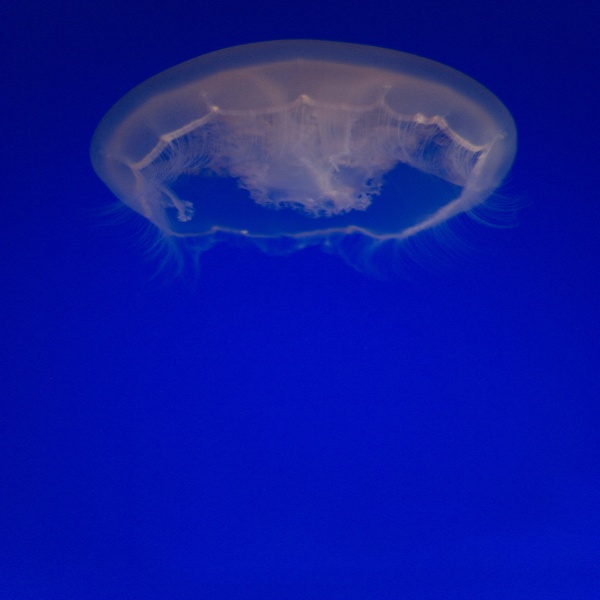Jellyfish: (85, 35, 518, 282)
